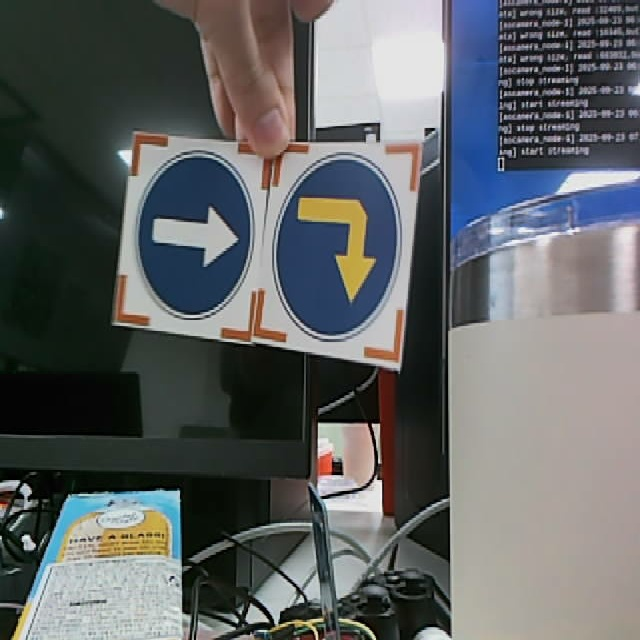right: (257, 138, 421, 372)
straight: (117, 132, 268, 344)
